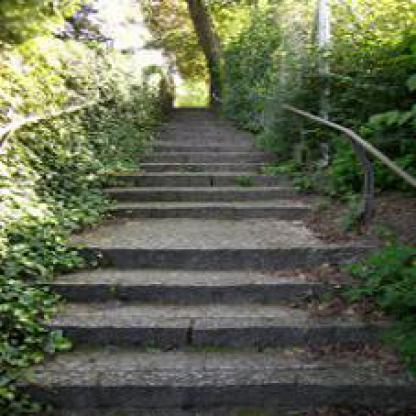stair_up: (37, 216, 402, 398)
